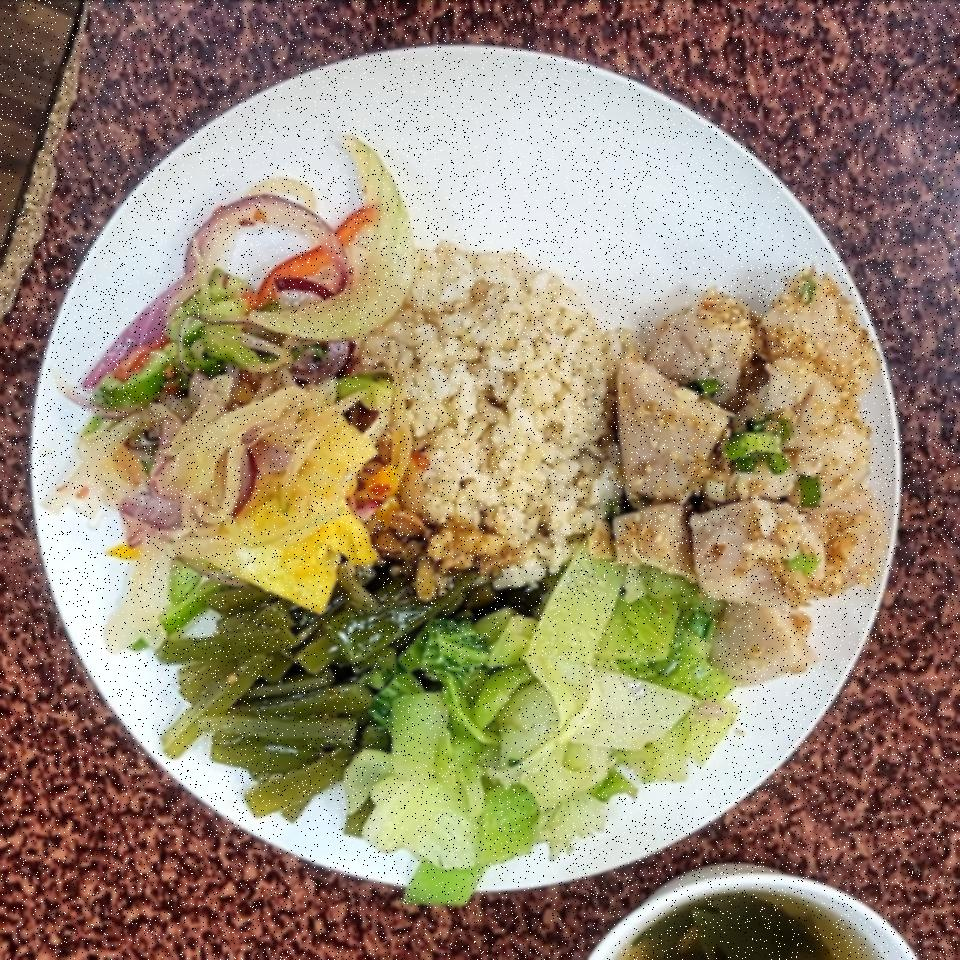brown rice: (346, 236, 618, 586)
plate: (22, 42, 914, 901)
scallion chicken: (606, 274, 877, 681)
side dish: (53, 164, 400, 585), (370, 566, 718, 884), (168, 562, 445, 802)
